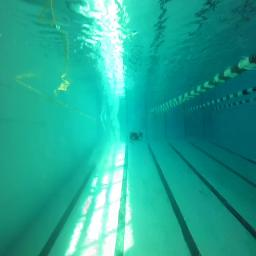Side: (130, 132, 143, 141)
